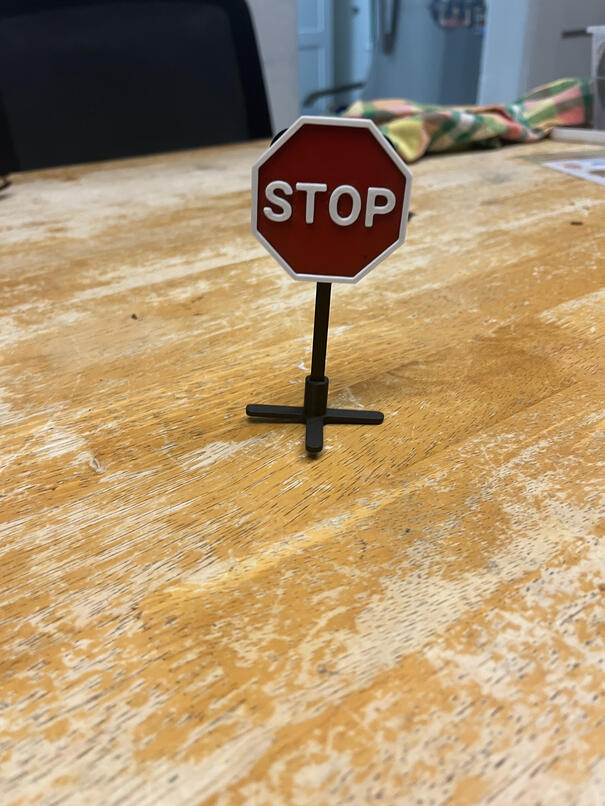sign_stop: (247, 106, 415, 285)
